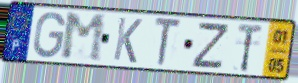G: (31, 10, 67, 60)
K: (111, 15, 144, 65)
M: (60, 12, 107, 64)
T: (153, 16, 183, 69), (236, 22, 265, 74)
Z: (189, 22, 232, 71)
